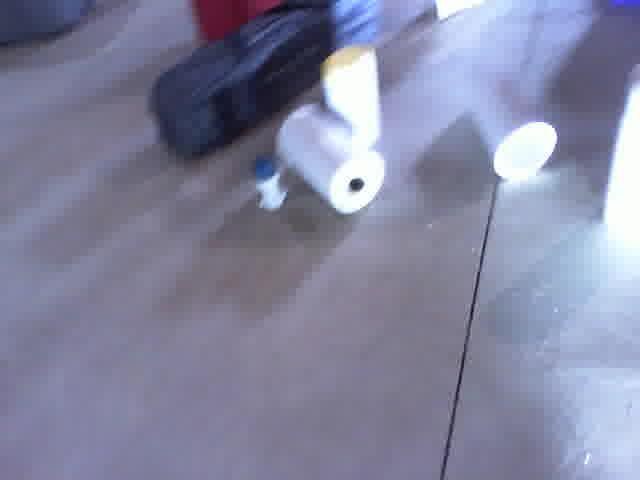coral: (454, 60, 563, 179), (601, 67, 640, 251)
